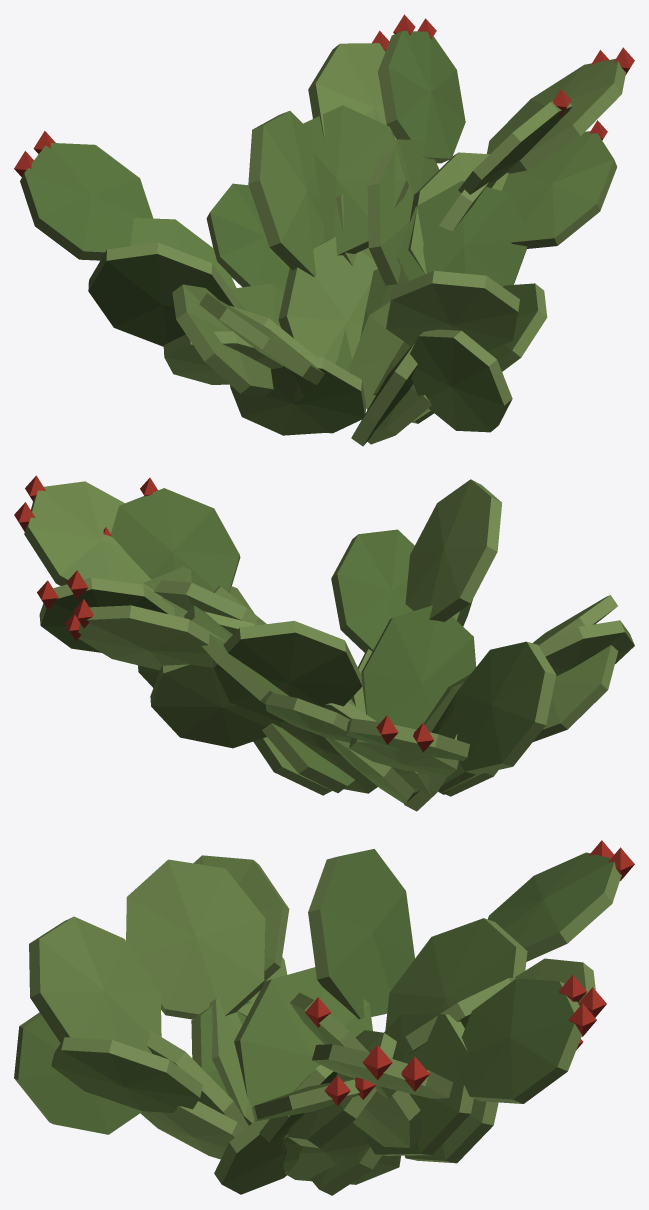
File: pricklypear.glb
3 views of the same model, one above another, from view 1: azimuth 30°, elevation 25°; view 2: azimuth 150°, elevation 25°; view 3: azimuth 270°, elevation 25° (orthographic). The views are drawn at different scales.
Visible parts, largest first — view 1: pricklypear_v1, pricklypear_v0, pricklypear_v2; view 2: pricklypear_v1, pricklypear_v0, pricklypear_v2; view 3: pricklypear_v1, pricklypear_v0, pricklypear_v2.
Boxes of the visible parts, bbox=[...] form: pricklypear_v1: bbox=[88, 47, 634, 446]; pricklypear_v0: bbox=[14, 14, 465, 435]; pricklypear_v2: bbox=[163, 89, 616, 444]; pricklypear_v1: bbox=[14, 475, 556, 811]; pricklypear_v0: bbox=[37, 570, 634, 796]; pricklypear_v2: bbox=[103, 477, 618, 803]; pricklypear_v1: bbox=[29, 849, 527, 1195]; pricklypear_v0: bbox=[126, 840, 634, 1171]; pricklypear_v2: bbox=[14, 957, 396, 1194].
Size of the model in its own units: 2.92 by 1.4 by 2.64.
